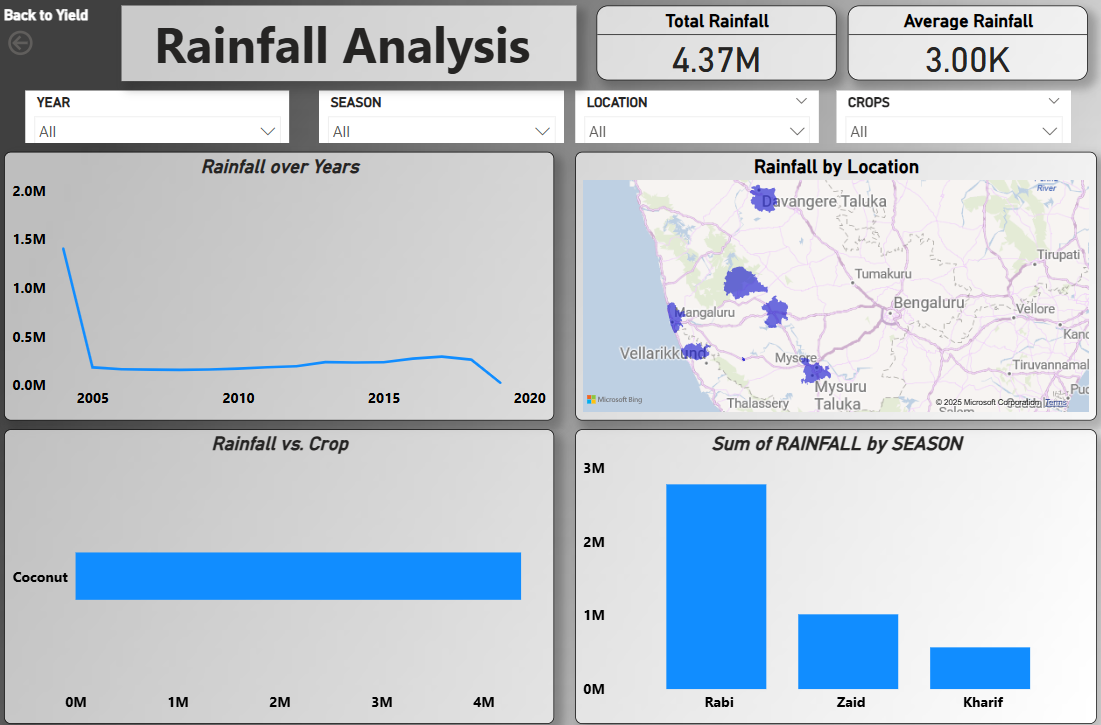

What the dashboard file says about the page in this screenshot:
{"tool":"powerbi","page":{"name":"Rainfall Analysis ","canvas":[1280,850],"ordinal":0},"visuals":[{"type":"lineChart","title":"Rainfall over Years","fields":{"Y":["Sum(AGRICULTURE.RAINFALL)"],"Category":["AGRICULTURE.YEAR"]},"box":[11.4,175.7,628.6,307.1],"z":0},{"type":"filledMap","title":"Rainfall by Location","fields":{"Category":["AGRICULTURE.LOCATION"]},"box":[664.3,175.7,595.7,307.1],"z":1000},{"type":"barChart","title":"Rainfall vs. Crop","fields":{"Category":["AGRICULTURE.CROPS"],"Y":["Sum(AGRICULTURE.RAINFALL)"]},"box":[11.4,492.9,628.6,337.1],"z":2000},{"type":"clusteredColumnChart","fields":{"Category":["AGRICULTURE.SEASON"],"Y":["Sum(AGRICULTURE.RAINFALL)"]},"box":[664.3,492.9,595.7,337.1],"z":3000},{"type":"slicer","fields":{"Values":["AGRICULTURE.YEAR"]},"box":[35,105,301.7,60],"z":4000},{"type":"card","title":"Total Rainfall","fields":{"Values":["Sum(AGRICULTURE.RAINFALL)"]},"box":[688.6,8.6,274.3,85.7],"z":5000},{"type":"card","title":"Average Rainfall","fields":{"Values":["Avg(AGRICULTURE.RAINFALL)"]},"box":[975.7,8.6,274.3,85.7],"z":6000},{"type":"slicer","fields":{"Values":["AGRICULTURE.SEASON"]},"box":[371.7,105,280,60],"z":7000},{"type":"slicer","fields":{"Values":["AGRICULTURE.LOCATION"]},"box":[665,105,278.3,60],"z":8000},{"type":"slicer","fields":{"Values":["AGRICULTURE.CROPS"]},"box":[963.3,105,268.3,60],"z":9000},{"type":"textbox","box":[145,8.3,520,86.7],"z":10000},{"type":"actionButton","title":"Back to Yield","box":[11.7,8.3,133.3,61.7],"z":11000}]}

Visuals, with their boxes in screenshot pixels (x1, y1, x2, y2), scaled from the page's 1280x850 canvas onto the 1101x725 screenshot:
"Rainfall over Years" lineChart: pyautogui.locateOnScreen(10, 150, 550, 412)
"Rainfall by Location" filledMap: pyautogui.locateOnScreen(571, 150, 1084, 412)
"Rainfall vs. Crop" barChart: pyautogui.locateOnScreen(10, 420, 550, 708)
clusteredColumnChart - AGRICULTURE.SEASON x Sum(AGRICULTURE.RAINFALL): pyautogui.locateOnScreen(571, 420, 1084, 708)
slicer - AGRICULTURE.YEAR: pyautogui.locateOnScreen(30, 90, 290, 141)
"Total Rainfall" card: pyautogui.locateOnScreen(592, 7, 828, 80)
"Average Rainfall" card: pyautogui.locateOnScreen(839, 7, 1075, 80)
slicer - AGRICULTURE.SEASON: pyautogui.locateOnScreen(320, 90, 561, 141)
slicer - AGRICULTURE.LOCATION: pyautogui.locateOnScreen(572, 90, 811, 141)
slicer - AGRICULTURE.CROPS: pyautogui.locateOnScreen(829, 90, 1059, 141)
textbox: pyautogui.locateOnScreen(125, 7, 572, 81)
"Back to Yield" actionButton: pyautogui.locateOnScreen(10, 7, 125, 60)
